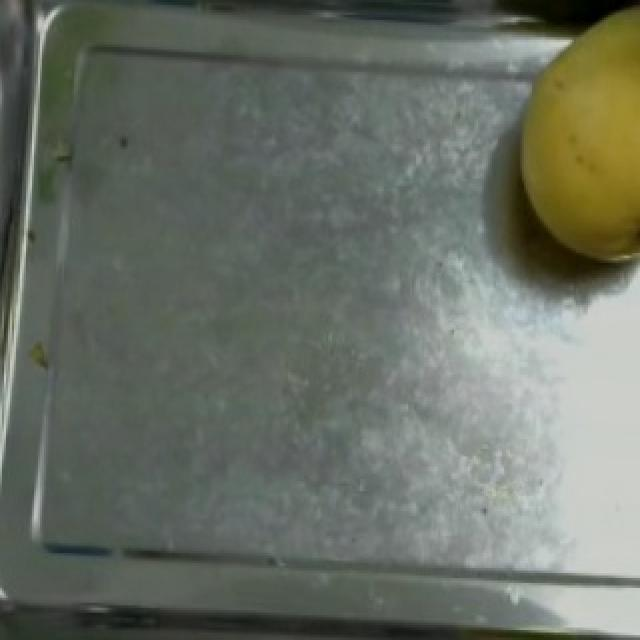fruit: (496, 0, 640, 285)
